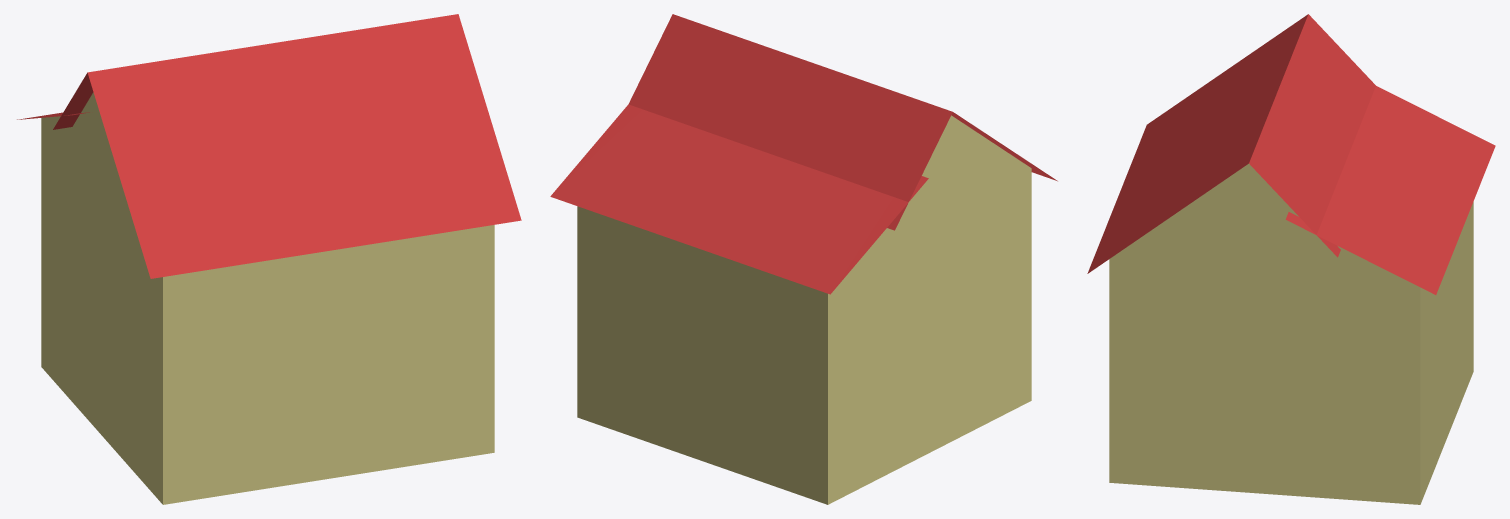
3 views of the same model, side by side, from view 1: azimuth 30°, elevation 25°; view 2: azimuth 150°, elevation 25°; view 3: azimuth 270°, elevation 25° (orthographic). The views are drawn at different scales.
Size of the model in its own units: 16.24 by 16.08 by 14.65.
